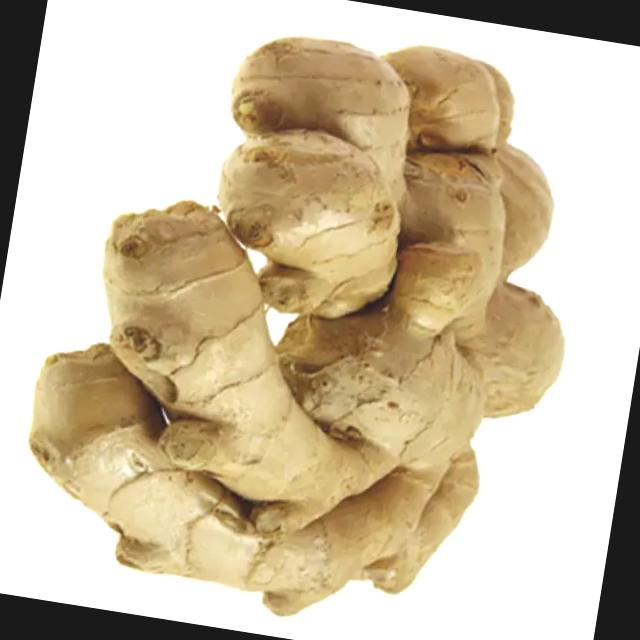ginger-root: (2, 0, 620, 640)
